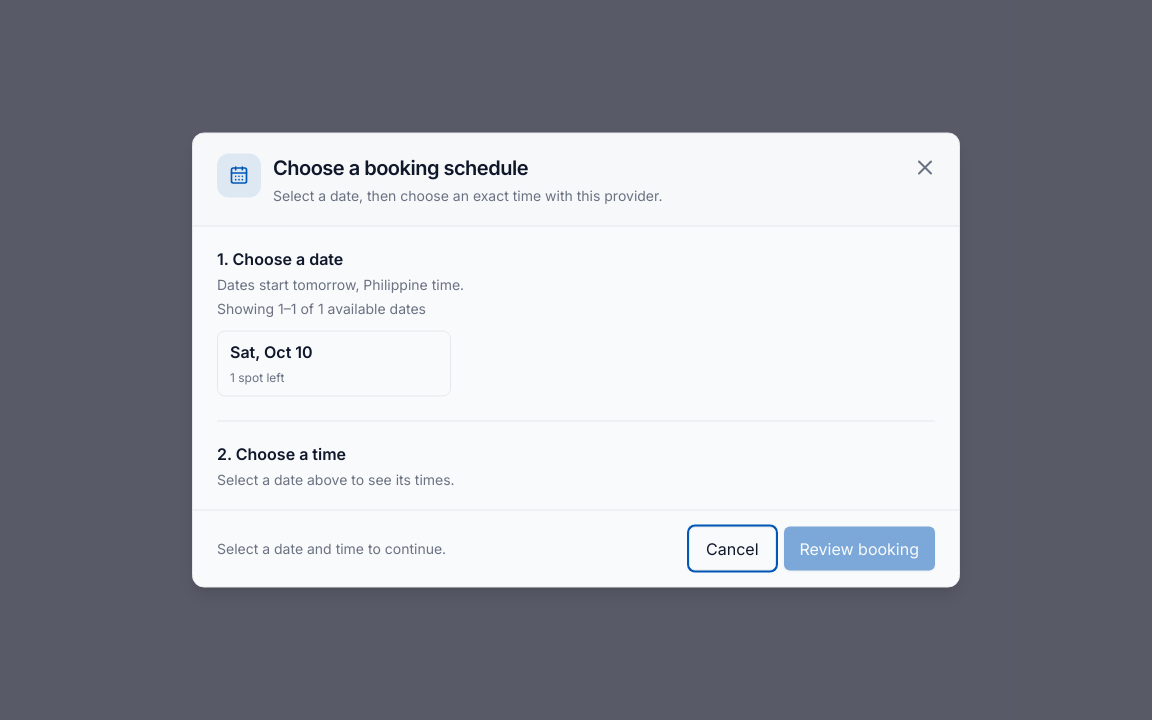
SlotSelectionModal › blocks a slot taken by another booking while the chooser was open
The image size is (1152, 720).
Click the button "Sat, Oct 10 1 spot left" at coordinates (334, 364), box [217,330,451,396]
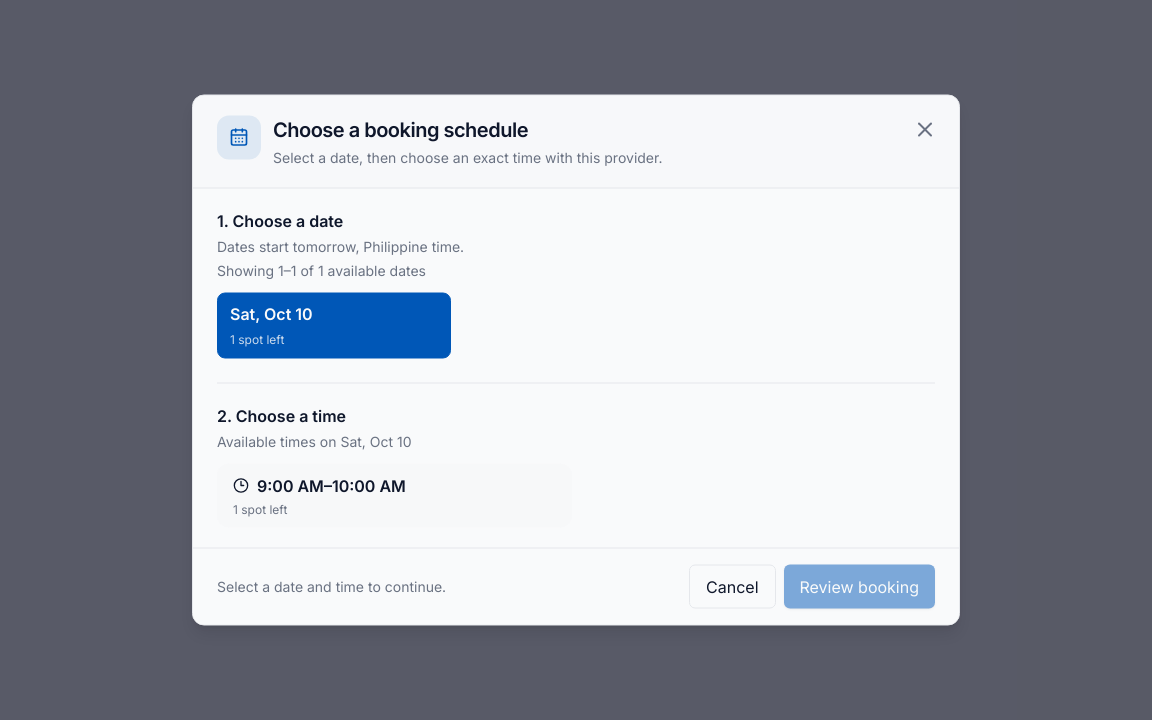
Click the button "9:00 AM–10:00 AM 1 spot left" at coordinates (394, 496), box [217,464,572,528]
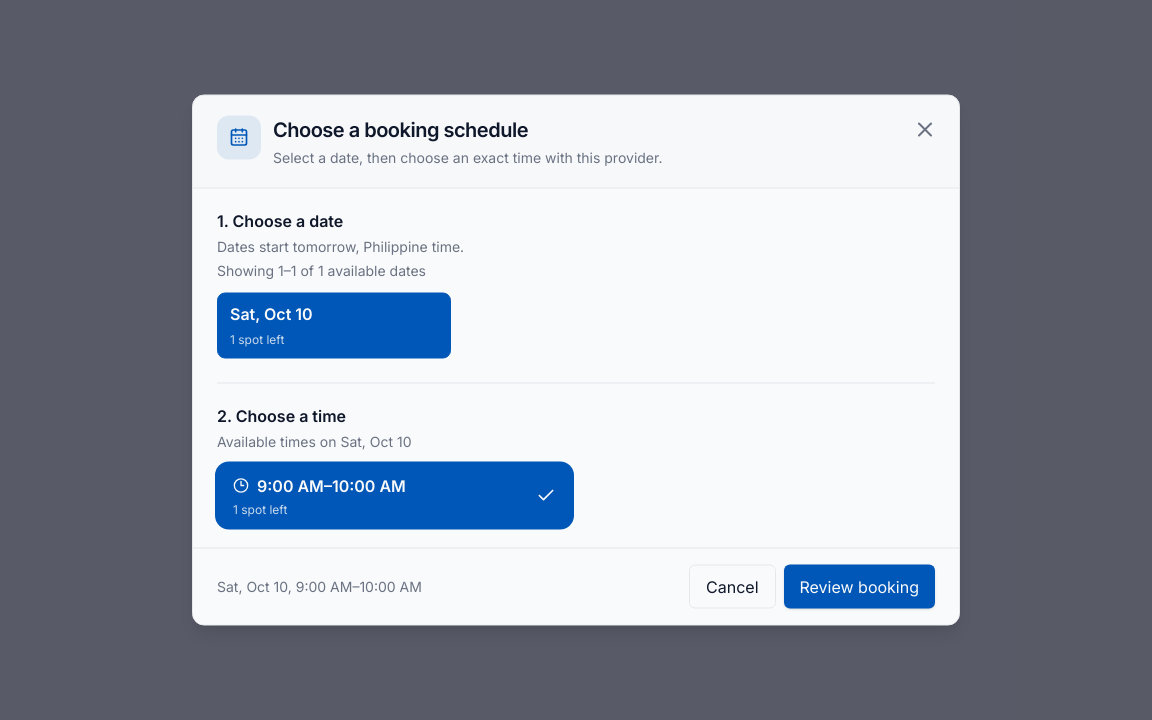
Click the button "Review booking" at coordinates (859, 586), box [784,564,935,608]
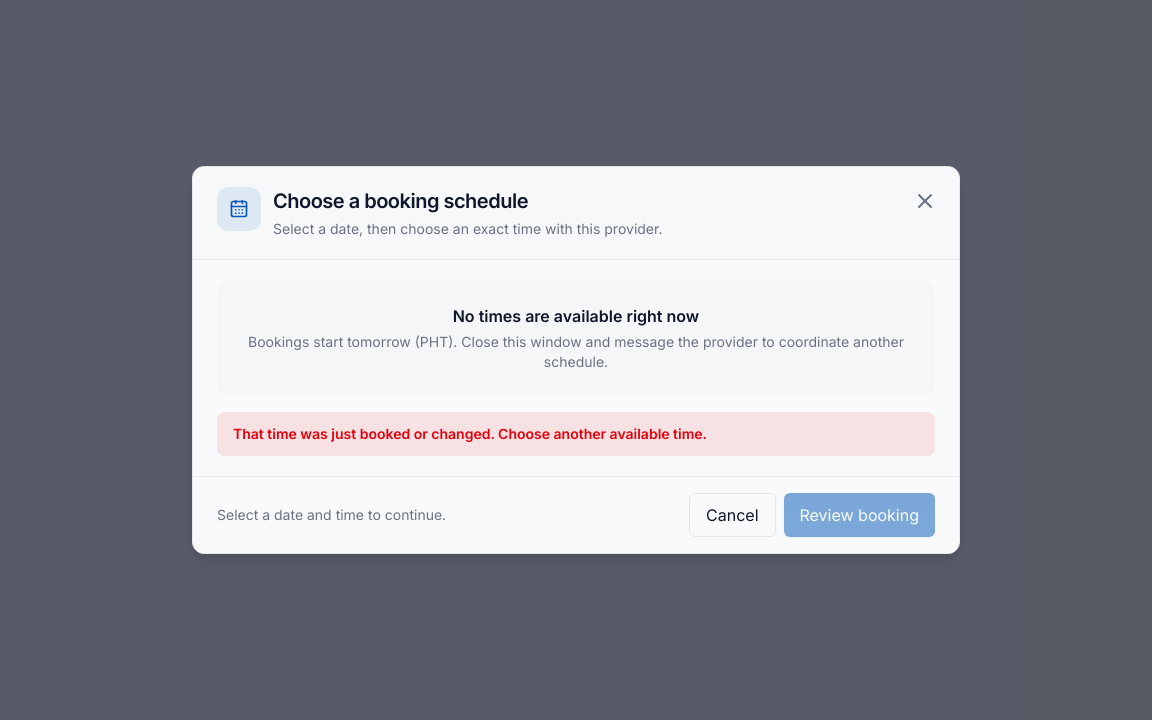
Check: the message shows "That time was just booked or changed", box [233,425,707,442]
